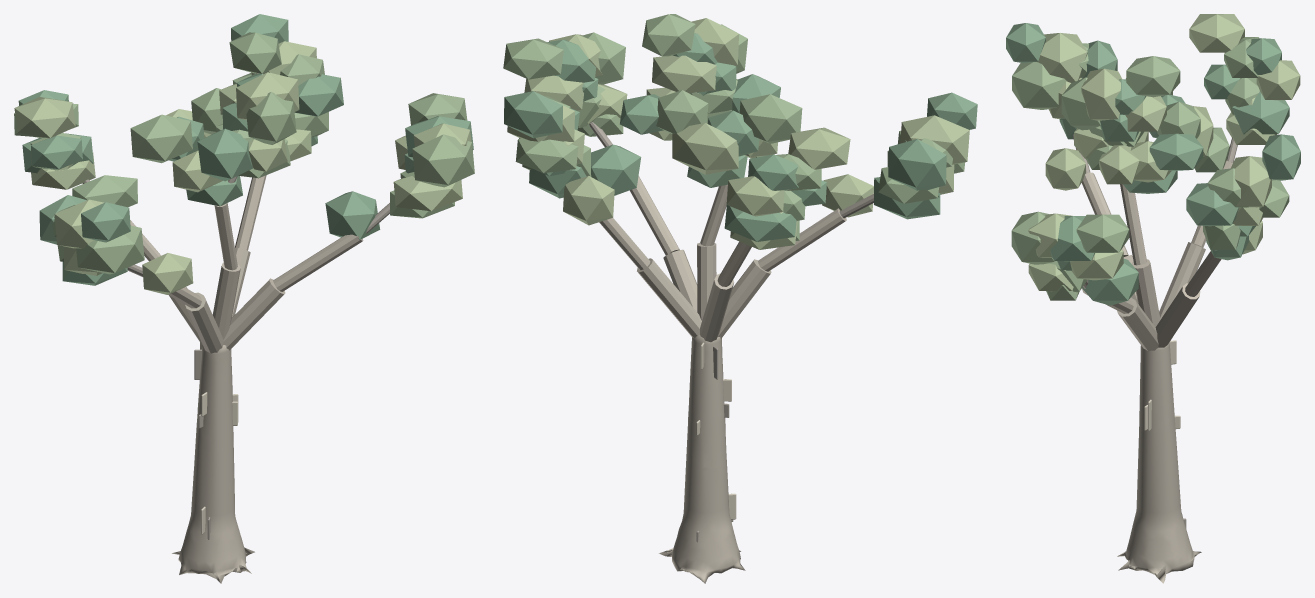
The model's file is plane-tree-a.glb.
3 views of the same model, side by side, from view 1: azimuth 30°, elevation 25°; view 2: azimuth 150°, elevation 25°; view 3: azimuth 270°, elevation 25° (orthographic). The views are drawn at different scales.
Visible parts, largest first — view 1: plane-tree-a; view 2: plane-tree-a; view 3: plane-tree-a.
Boxes of the visible parts, <box> form: plane-tree-a: <box>14,14,474,583</box>; plane-tree-a: <box>503,14,977,583</box>; plane-tree-a: <box>1006,14,1300,583</box>.
Size of the model in its own units: 8.53 by 9.98 by 5.06.
